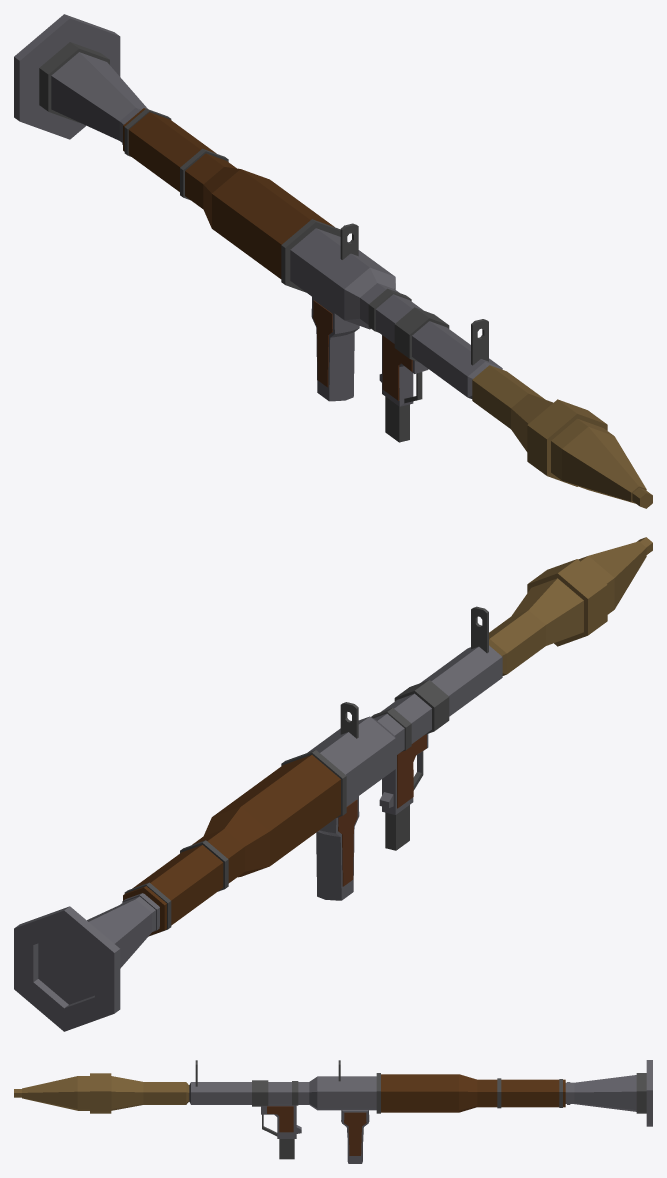
The model's file is Lvl1_Kraken_Gun_Model.fbx.
3 renders of one model, top to bottom at view 1: azimuth 30°, elevation 25°; view 2: azimuth 150°, elevation 25°; view 3: azimuth 270°, elevation 25°, orthographic. The views are drawn at different scales.
Visible parts, largest first — view 1: Cylinder.016; view 2: Cylinder.016; view 3: Cylinder.016.
Boxes of the visible parts, x1=… form: Cylinder.016: x1=14, y1=14, x2=652, y2=508; Cylinder.016: x1=14, y1=537, x2=652, y2=1031; Cylinder.016: x1=14, y1=1060, x2=652, y2=1163.
Bounding box in the file's own units: 29.85 × 52.14 × 300.
